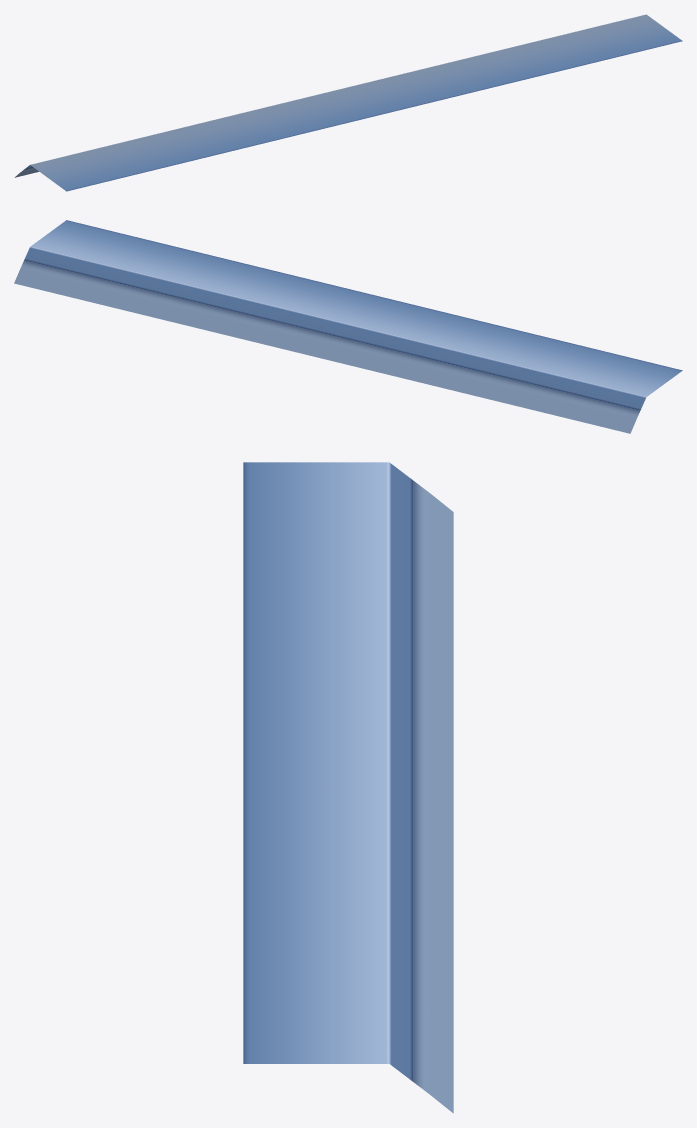
The picture shows the model from 3 angles, top to bottom: view 1: azimuth 30°, elevation 25°; view 2: azimuth 150°, elevation 25°; view 3: azimuth 270°, elevation 25°; orthographic projection. The views are drawn at different scales.
Visible parts, largest first — view 1: BaseGround__1_; view 2: BaseGround__1_; view 3: BaseGround__1_.
Boxes of the visible parts, x1,y1,x2,y2 form: BaseGround__1_: (14, 14, 682, 191); BaseGround__1_: (14, 220, 682, 433); BaseGround__1_: (243, 462, 453, 1113).
Size of the model in its own units: 2095 by 80.9 by 310.
